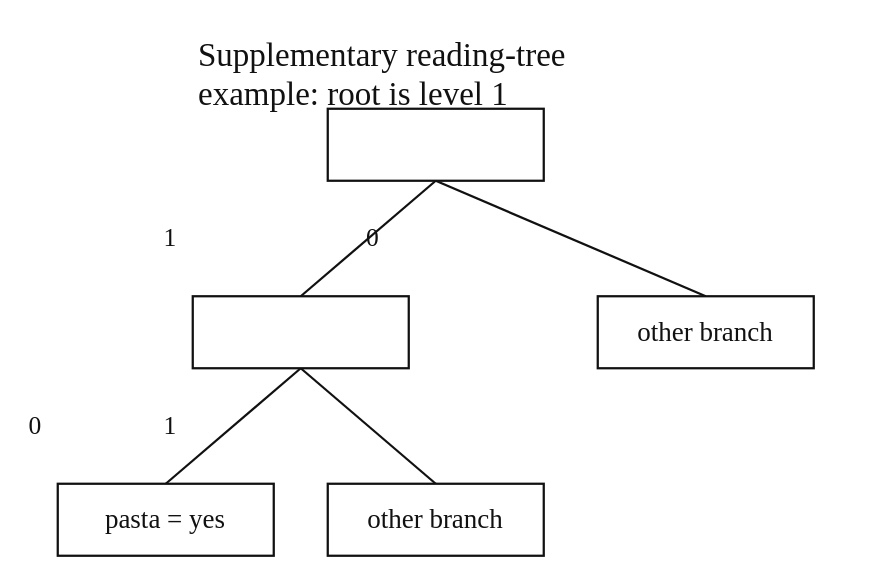
This 869x582 diagram has some shape labels left out. The centre of each missing label's shape, as x and y in pixels:
"beer" belongs at pixel 435 144.
"cheese" belongs at pixel 300 331.
